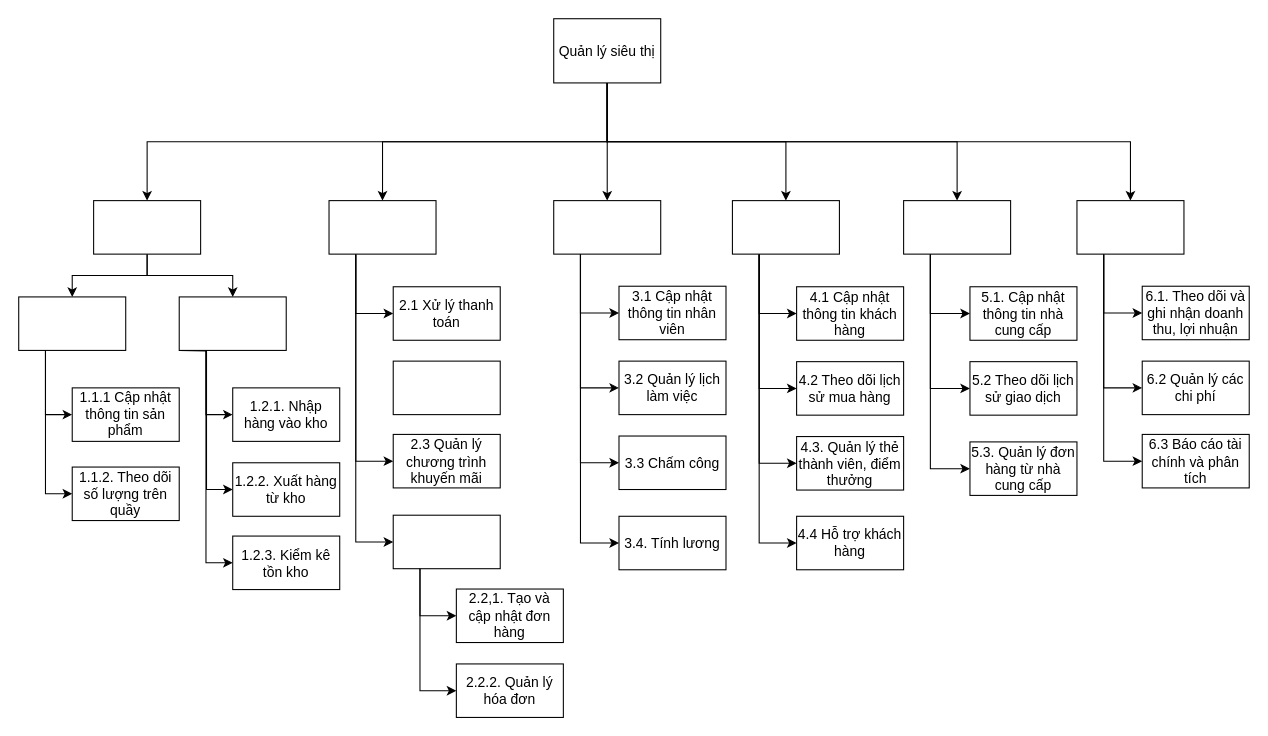
Image size: 1268x736. Some labels were removed from this diagram. The box of each missing label's shape, as (x1, y1, x2, y2) in pixels:
1. Quản lý hàng hóa: (93, 200, 201, 254)
1.1. Quản lý sản phẩm: (18, 296, 126, 350)
1.2. Quản lý kho: (178, 296, 286, 350)
2. Quản lý bán hàng: (328, 200, 436, 254)
2.2 Báo cáo bán hàng: (392, 360, 500, 415)
2.4. Quản lý đơn hàng: (392, 514, 500, 569)
3. Quản lý nhân viên: (553, 200, 661, 254)
4. Quản lý khách hàng: (731, 200, 839, 254)
5. Quản lý nhà cung cấp: (903, 200, 1011, 254)
6. Quản lý tài chính: (1076, 200, 1184, 254)
